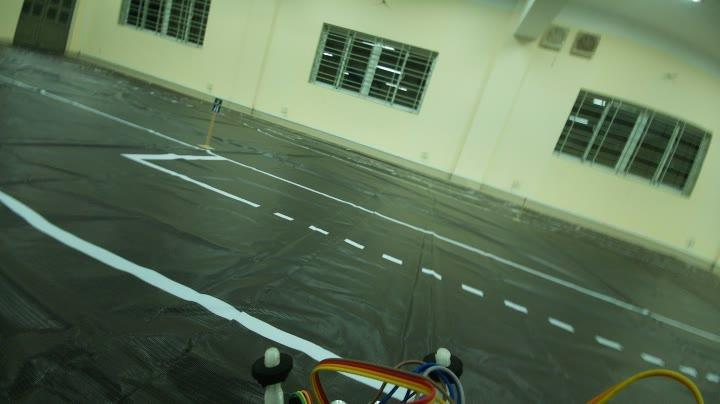highway_exit: (208, 90, 225, 115)
